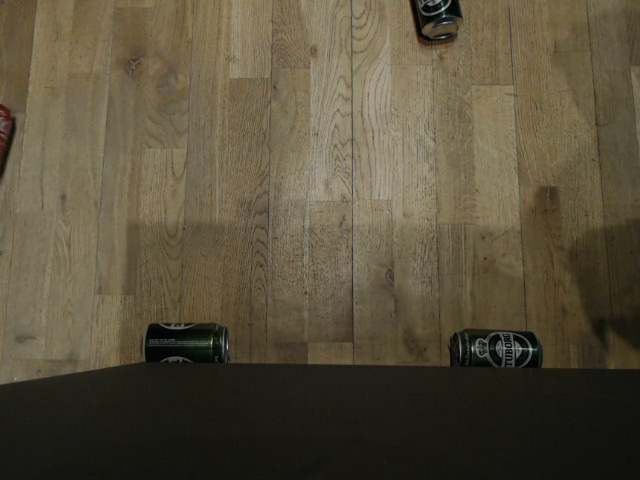beer: (141, 321, 230, 366), (449, 328, 545, 367), (410, 0, 464, 42)
